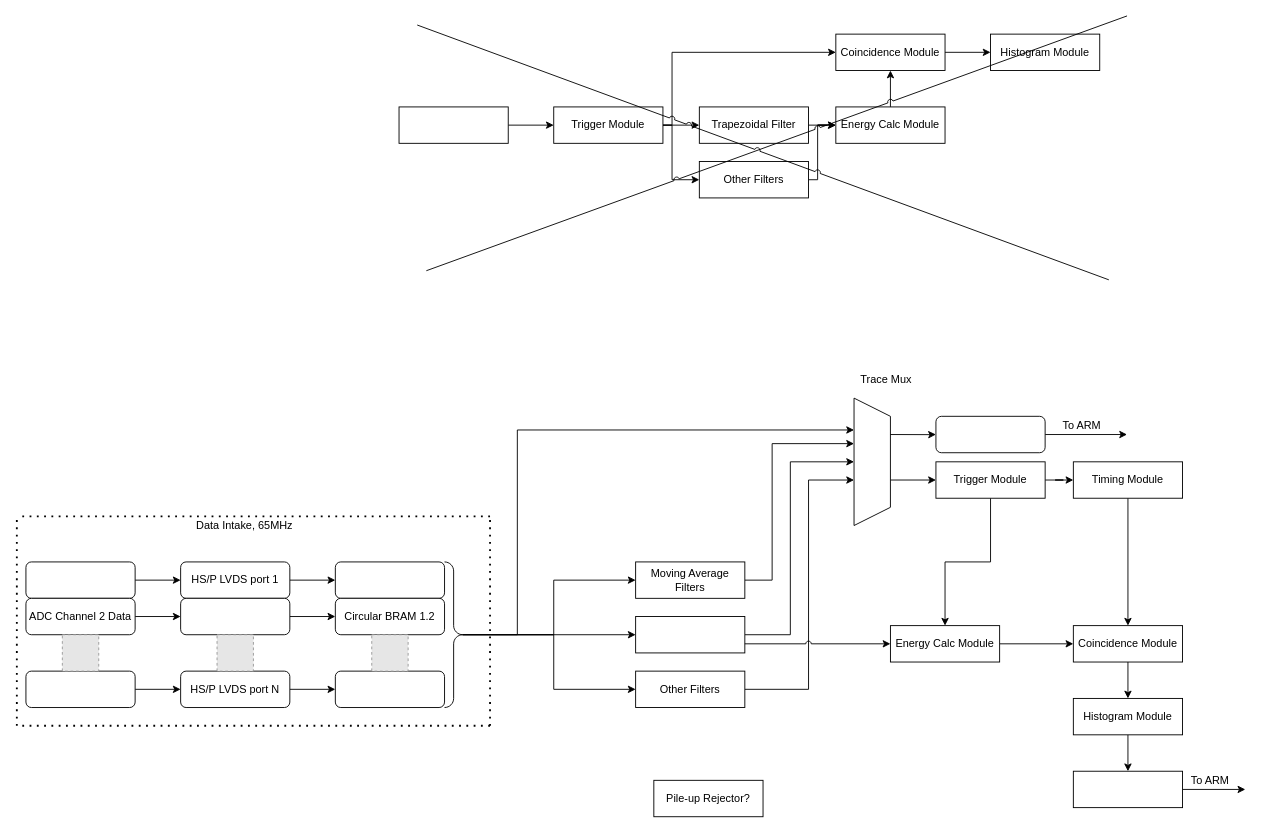
This 1269x833 diagram has some shape labels left out. Grey dashed boxes stand in for pictures. The centre of each missing label's shape, as x and y in pixels:
ADC Channel 1 Data: point 80,579
ADC Channel N Data: point 80,689
Circular BRAM 1.1: point 389,579
Circular BRAM 1.N: point 389,689
Data Intake: point 453,124
Histogram FIFO: point 1127,789
HS/P LVDS port 2: point 235,616
Trace BRAM: point 990,434
Trapezoidal Filters: point 690,634
